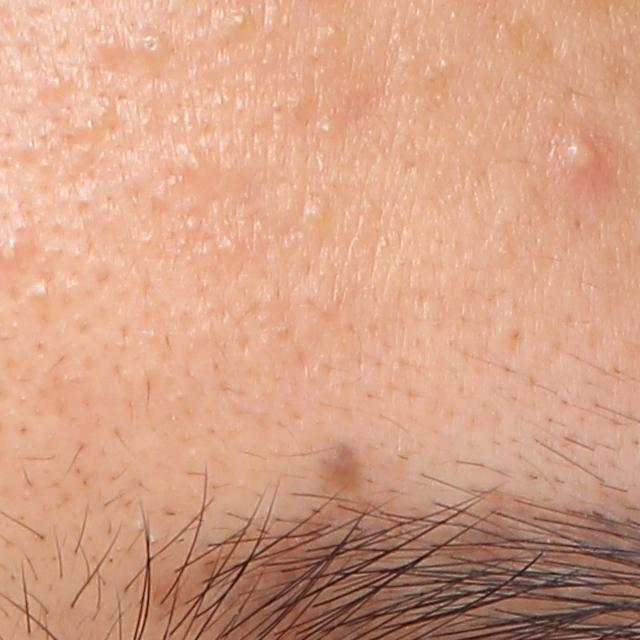comedo: (299, 189, 327, 227), (317, 16, 348, 47), (138, 31, 168, 62), (224, 12, 258, 39), (213, 233, 243, 263), (313, 116, 338, 142), (45, 71, 69, 93)
nevus: (317, 442, 365, 501)
pustule: (543, 120, 627, 198)
